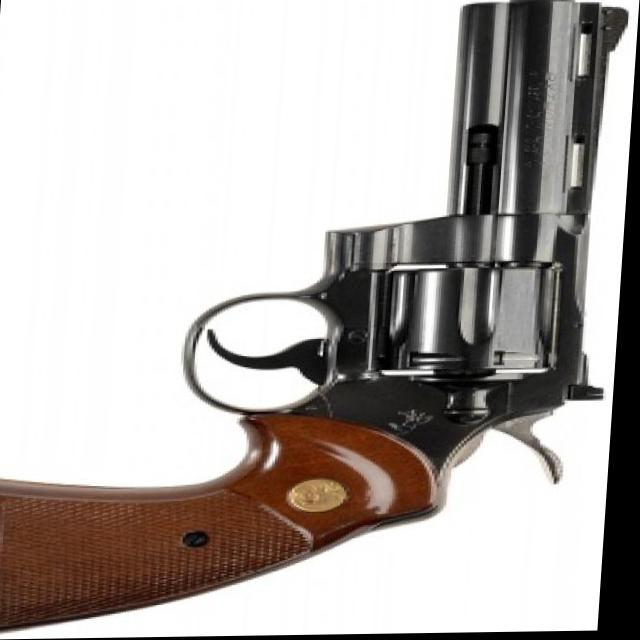handgun: (0, 0, 637, 640)
